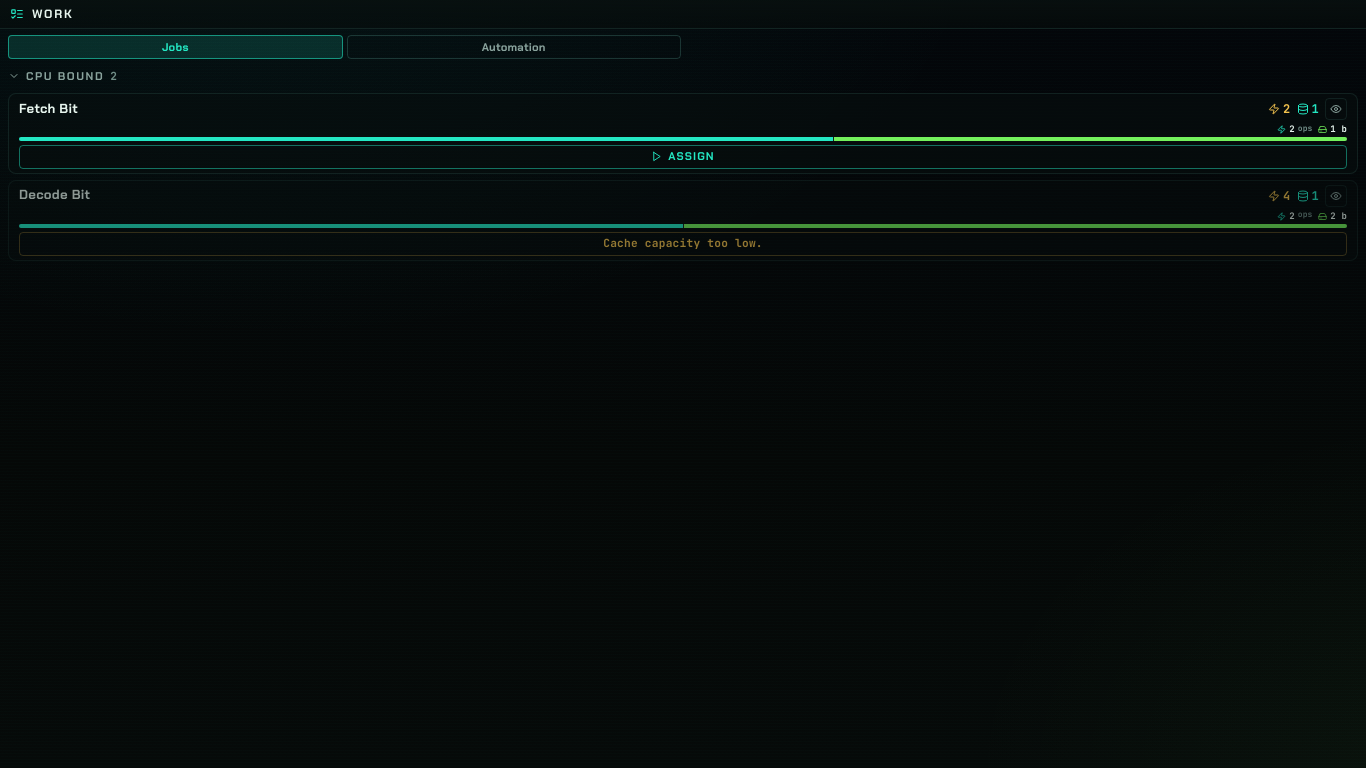
WorkPanel › keeps Automation hidden before purchase and reveals it with installed coverage
Click the tab "Automation" at (514,47), box [346,35,681,59]
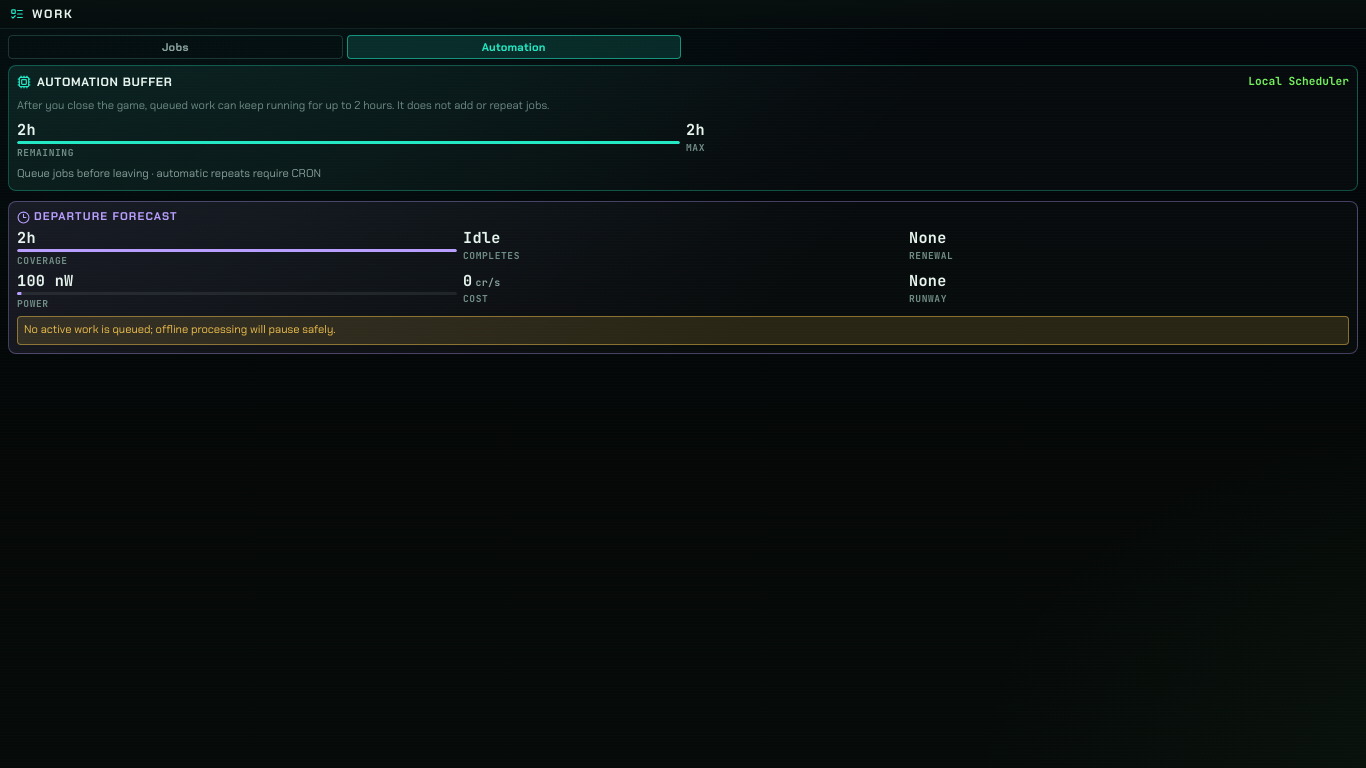
Check: the text "Local Scheduler" is shown, box [1248,75,1349,89]
Check: the element named "Max 2h" is shown, box [686,119,705,154]
Check: the text "Queue jobs before leaving" is shown, box [17,167,321,181]
